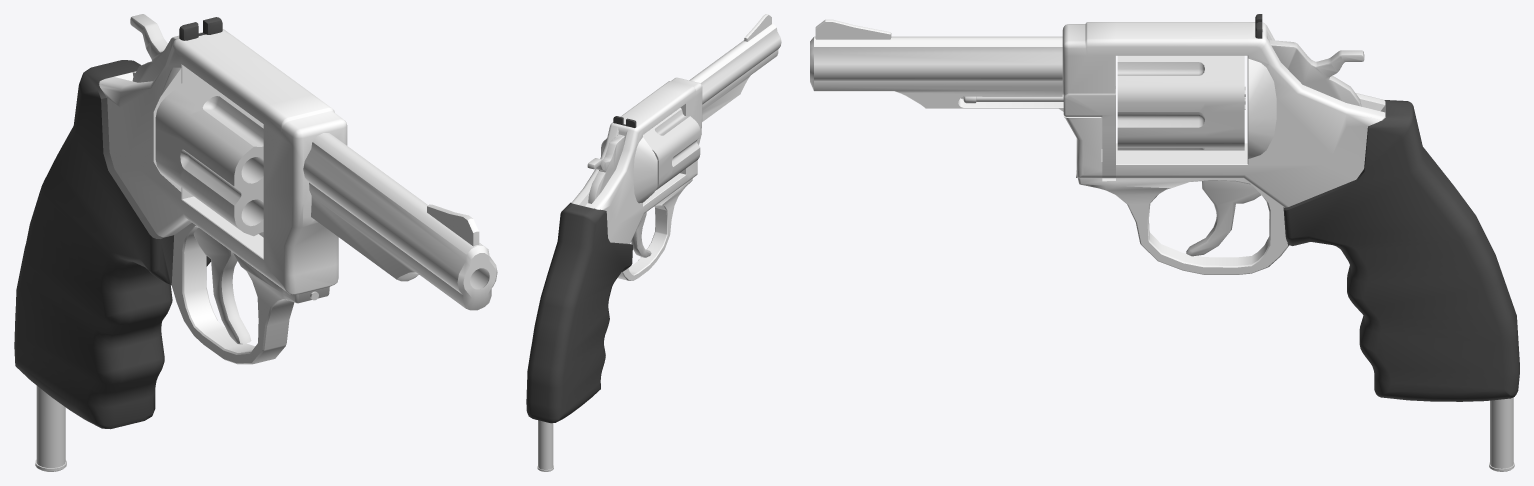
File: Magnum357.fbx
The picture shows the model from 3 angles, left to right: view 1: azimuth 30°, elevation 25°; view 2: azimuth 150°, elevation 25°; view 3: azimuth 270°, elevation 25°; orthographic projection. The views are drawn at different scales.
Visible parts, largest first — view 1: 357MagnumBody, Cylinder, Trigger, 357Casing, Hammer; view 2: 357MagnumBody, Cylinder, Hammer, 357Casing, Trigger; view 3: 357MagnumBody, Cylinder, Hammer, CylinderHolder, Trigger, 357Casing.
Part boxes in pixels (<box>): 357MagnumBody: <box>14,17,497,429</box>; Cylinder: <box>155,73,263,237</box>; Trigger: <box>193,227,251,344</box>; 357Casing: <box>35,386,66,471</box>; Hammer: <box>130,14,179,82</box>; 357MagnumBody: <box>526,14,781,423</box>; Cylinder: <box>601,108,700,190</box>; Hammer: <box>587,134,624,203</box>; 357Casing: <box>537,420,553,471</box>; Trigger: <box>631,212,651,257</box>; 357MagnumBody: <box>810,14,1519,401</box>; Cylinder: <box>1117,55,1245,150</box>; Hammer: <box>1270,40,1364,106</box>; CylinderHolder: <box>963,89,1115,178</box>; Trigger: <box>1186,180,1261,256</box>; 357Casing: <box>1489,397,1514,471</box>.
Bounding box in the file's own units: 4.16 × 20.09 × 28.93.
